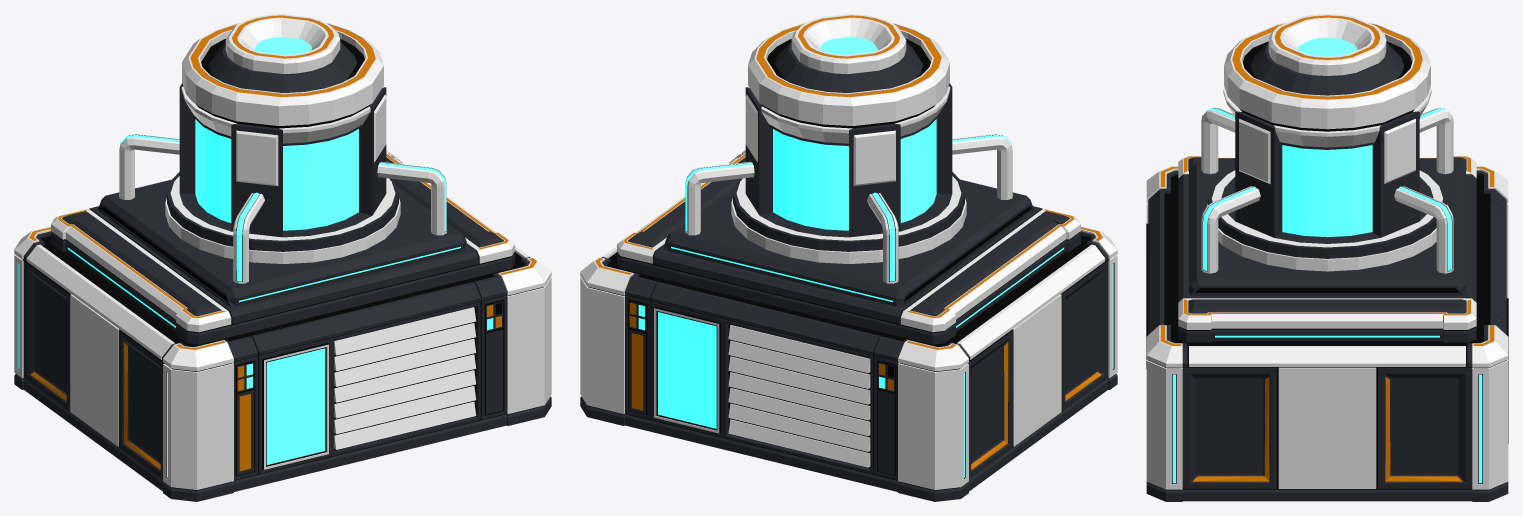
File: SM_Nuclear_T2.fbx
3 views of the same model, side by side, from view 1: azimuth 30°, elevation 25°; view 2: azimuth 150°, elevation 25°; view 3: azimuth 270°, elevation 25° (orthographic). The views are drawn at different scales.
Visible parts, largest first — view 1: SM_Nuclear_T2; view 2: SM_Nuclear_T2; view 3: SM_Nuclear_T2.
Boxes of the visible parts, x1=… form: SM_Nuclear_T2: x1=14, y1=14, x2=551, y2=501; SM_Nuclear_T2: x1=580, y1=14, x2=1117, y2=501; SM_Nuclear_T2: x1=1146, y1=14, x2=1508, y2=501.
Bounding box in the file's own units: 250 × 225 × 200.
